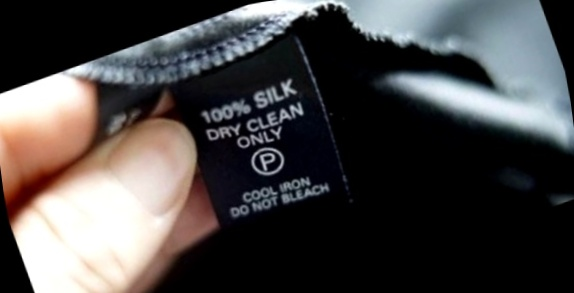dry_clean_any_solvent_except_trichloroethylene: (246, 139, 291, 181)
